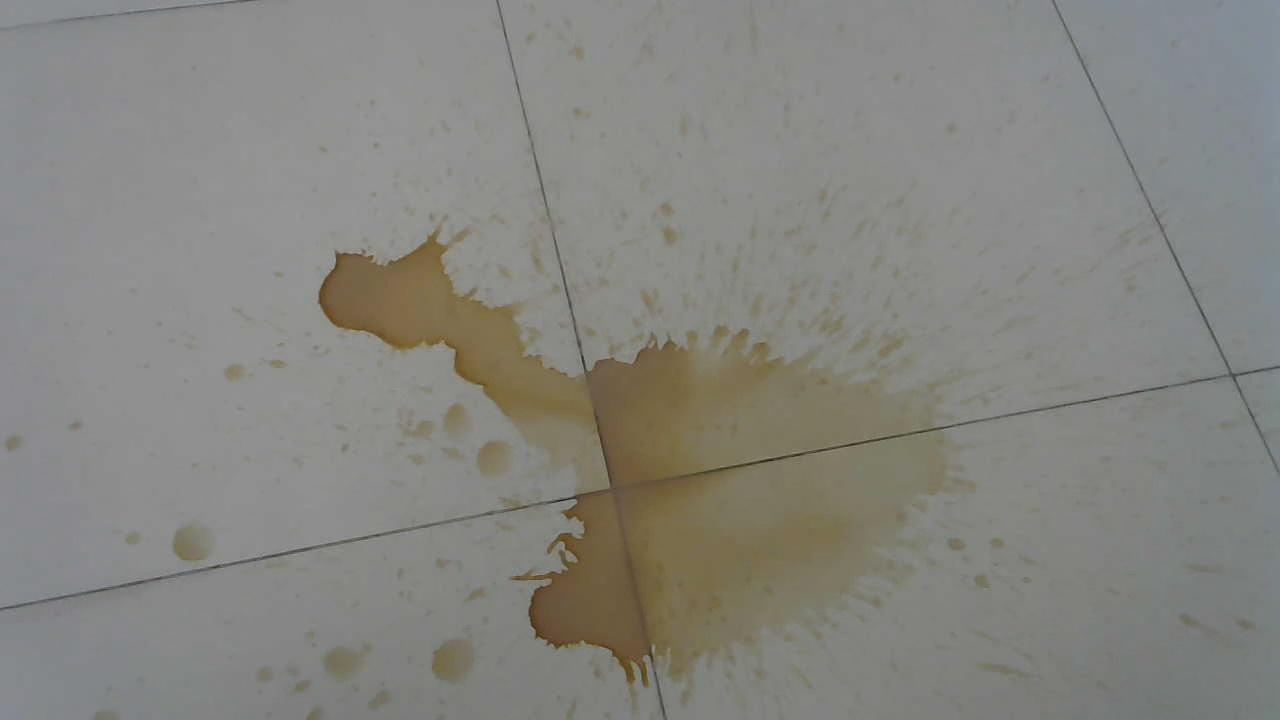dirty_floor: (313, 187, 977, 699)
